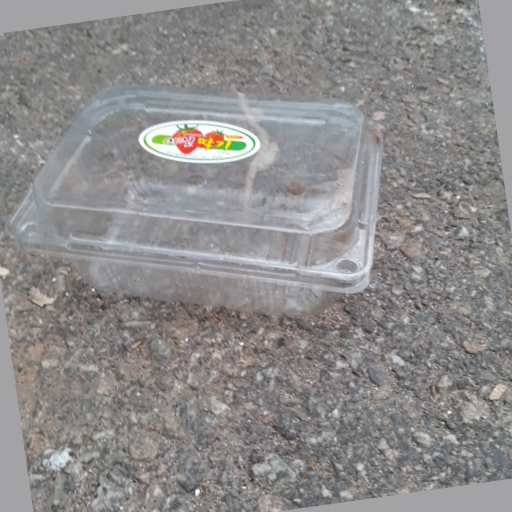Plastic_4: (6, 86, 383, 317)
